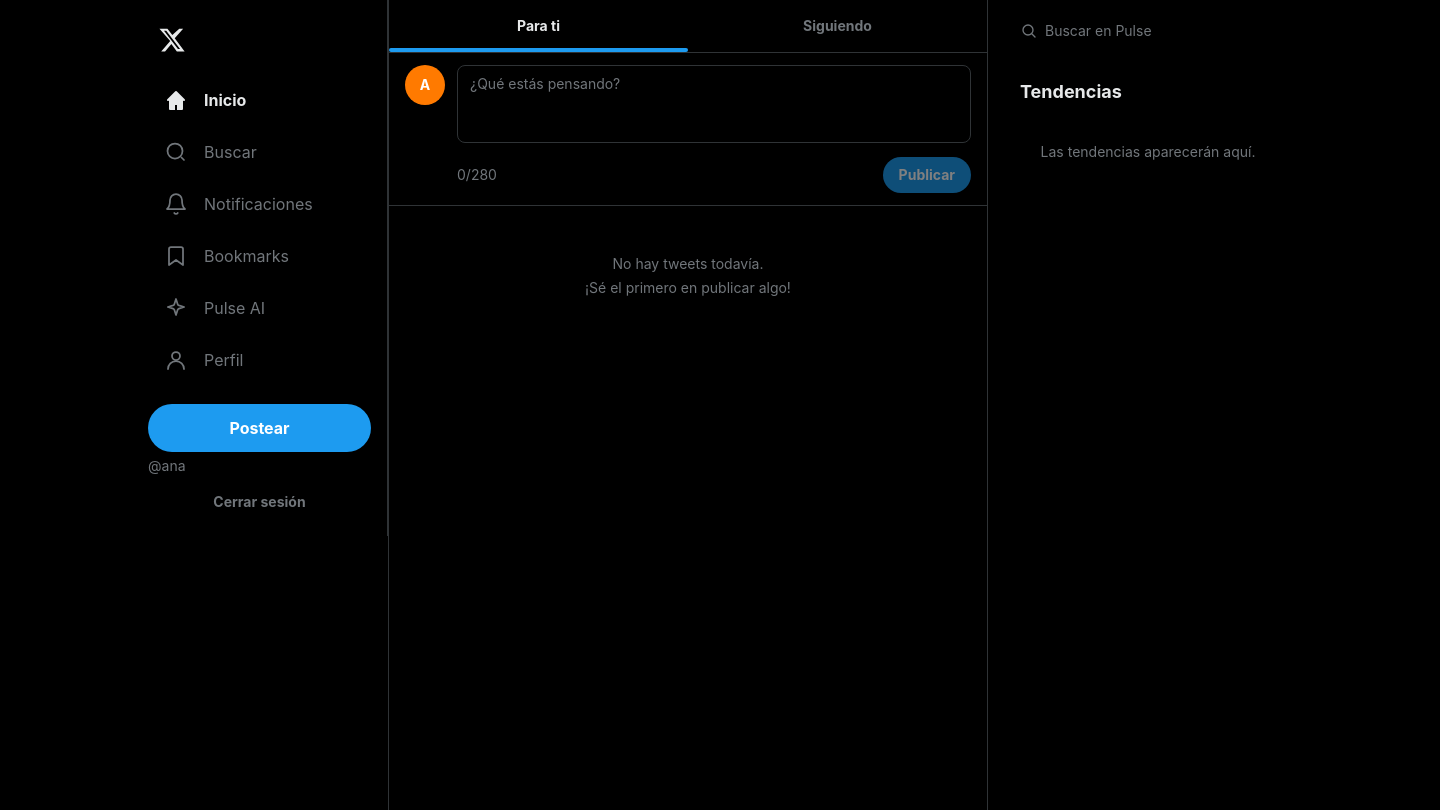
Test: ComposeModal — modal de composición de tweet › el botón X del header cierra el modal
What coordinates should you click on to do the following:
click the button "Postear"
I would click on:
 (260, 428)
Its box is [148, 404, 371, 452].
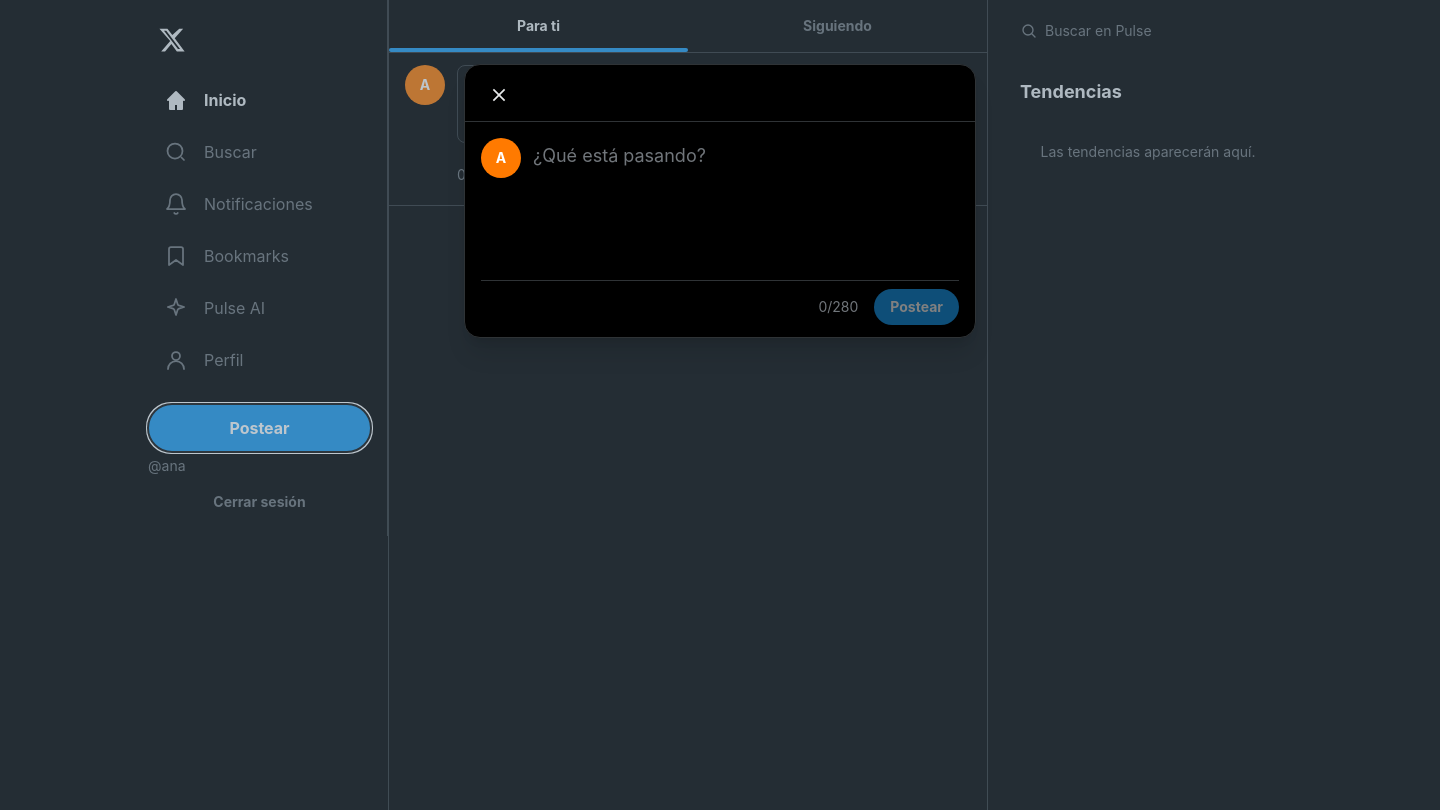
Now the dialog is shown, box [464, 64, 976, 338]
What coordinates should you click on to do the following:
click the button named "Cerrar modal"
I would click on:
 (499, 95)
Its box is [481, 77, 517, 113].
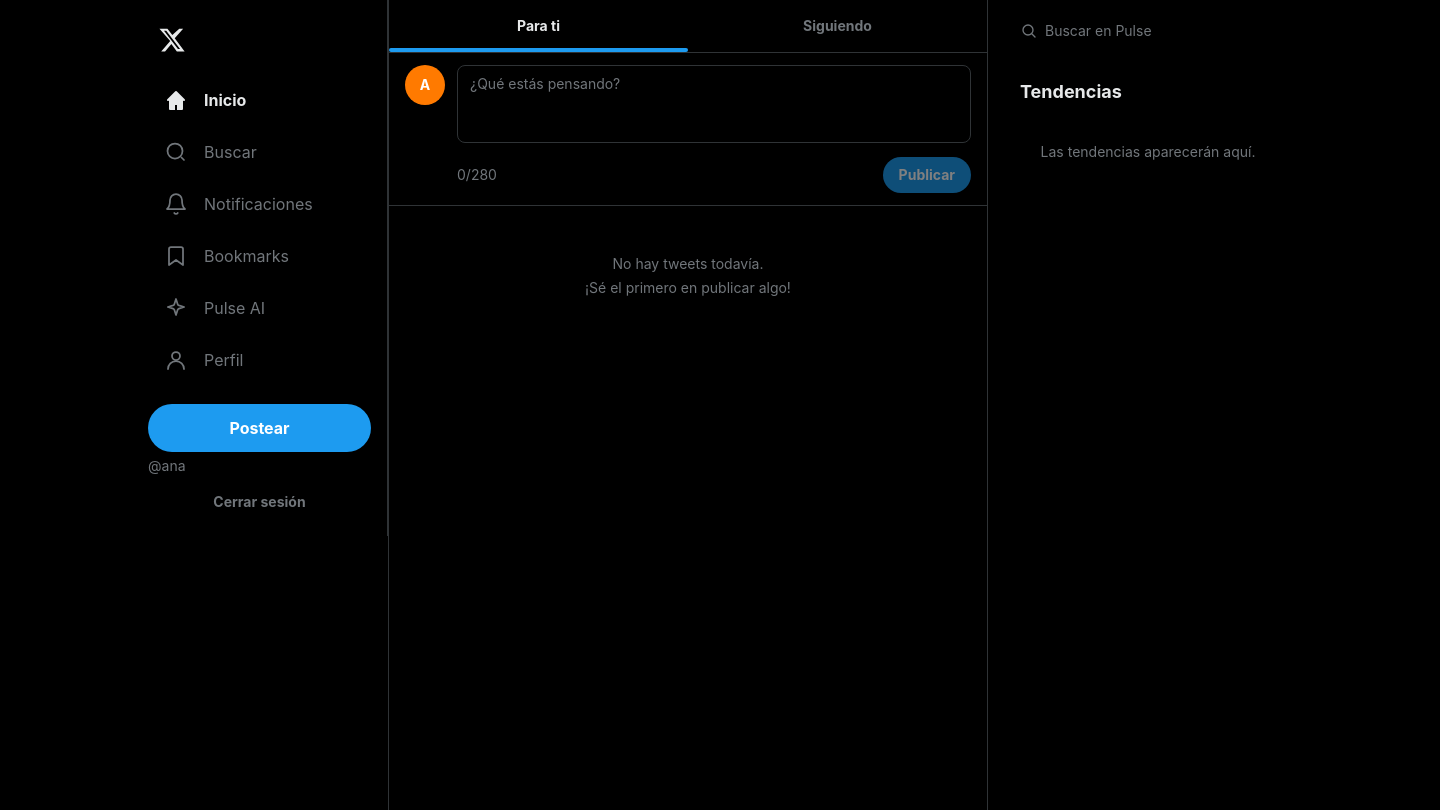
Now the dialog is gone
